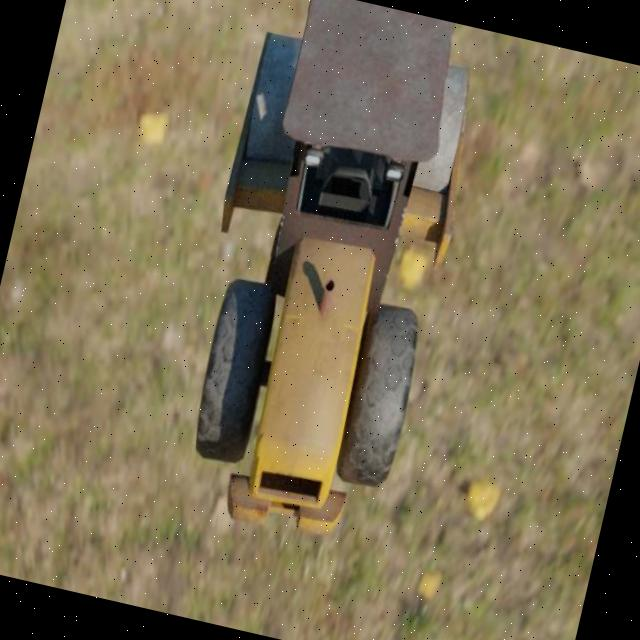Roller: (151, 0, 497, 554)
